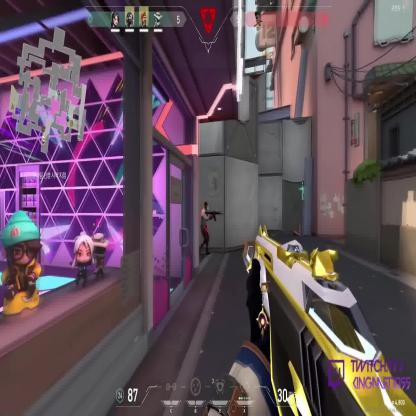enemy: (198, 201, 223, 256)
enemy_head: (204, 202, 209, 212)
